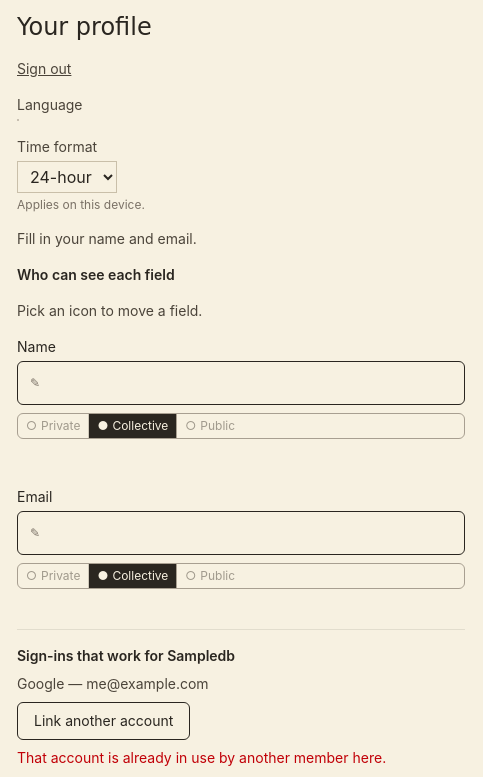
Test: /profile — link round-trip outcome from the URL (#193 review F1) › starting a new attempt clears the previous round trip’s verdict
The image size is (483, 777).
Expected: the element with test id "profile-field-name" is shown, [17,337,465,463]
Expected: the message "That account is already in use by another member here." is shown, [17,749,386,766]
Step 1. Click the button with test id "profile-link-another" → point(104, 721), box [17,702,190,740]
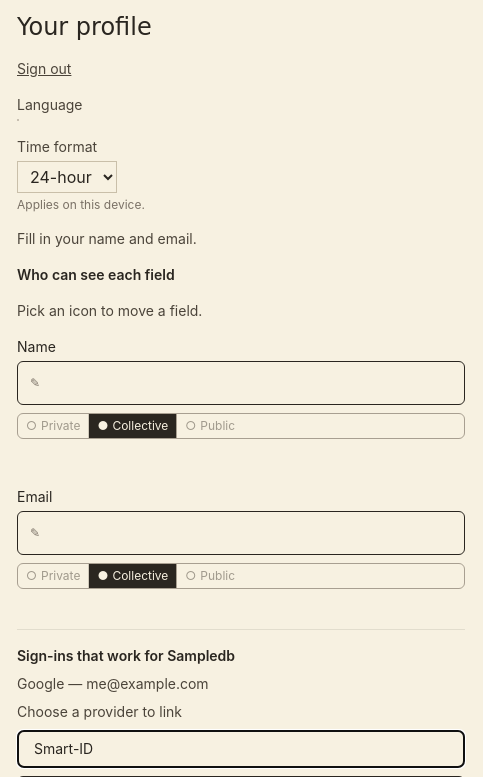
Result: the message with test id "profile-link-error" is gone
